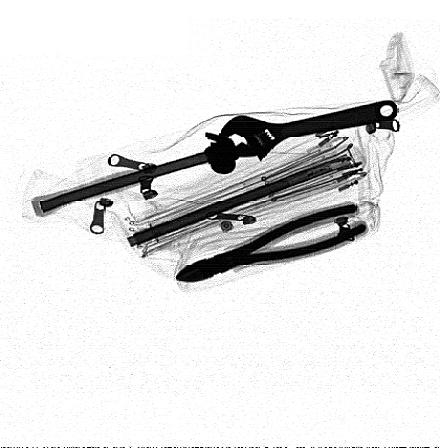Hammer: (30, 129, 248, 221)
Pliers: (174, 205, 369, 284)
Wrench: (216, 99, 399, 162)
